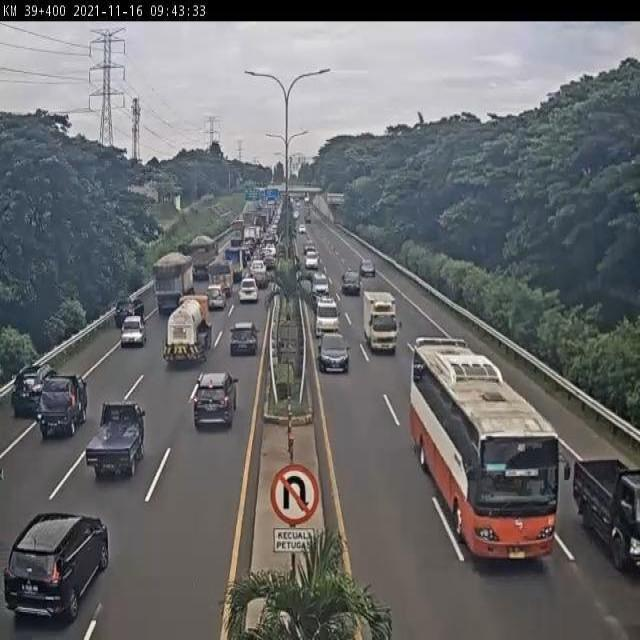Bus: (409, 332, 571, 564)
Car: (5, 512, 110, 624), (192, 369, 241, 431), (11, 364, 56, 416), (316, 332, 351, 376), (230, 322, 260, 356), (120, 316, 148, 348), (114, 297, 145, 325), (340, 266, 362, 296), (237, 277, 259, 304), (205, 285, 225, 309), (310, 272, 329, 296), (248, 260, 268, 280), (358, 258, 376, 280), (302, 250, 320, 270), (298, 225, 307, 235)
Truck: (573, 456, 640, 576), (85, 402, 146, 479), (163, 294, 213, 364), (38, 374, 88, 437), (361, 289, 403, 354), (153, 251, 195, 315), (188, 235, 220, 280), (207, 258, 234, 297), (223, 246, 244, 281), (230, 218, 244, 245), (243, 226, 257, 246), (255, 215, 266, 232), (241, 212, 254, 226), (304, 205, 312, 224)
Van: (312, 296, 340, 339)
